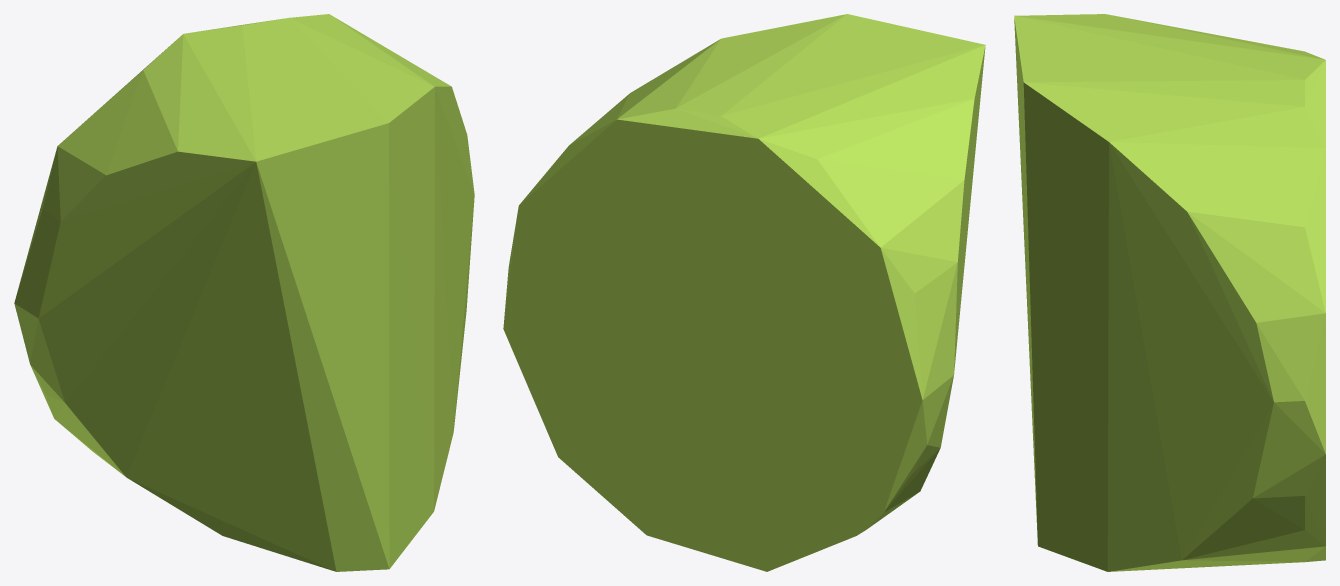
Rendered from industrial_06397_link_2_respondable_respondable_respondable_respondable_respondable_respondable_coll_2.dae.
3 renders of one model, left to right at view 1: azimuth 30°, elevation 25°; view 2: azimuth 150°, elevation 25°; view 3: azimuth 270°, elevation 25°, orthographic. The views are drawn at different scales.
Parts seen in each view (by area): view 1: node; view 2: node; view 3: node.
Boxes of the visible parts, x1,y1,x2,y2 form: node: (14,14,474,571); node: (503,14,985,571); node: (1014,14,1325,571).
Size of the model in its own units: 0.1183 by 0.117 by 0.0714.
